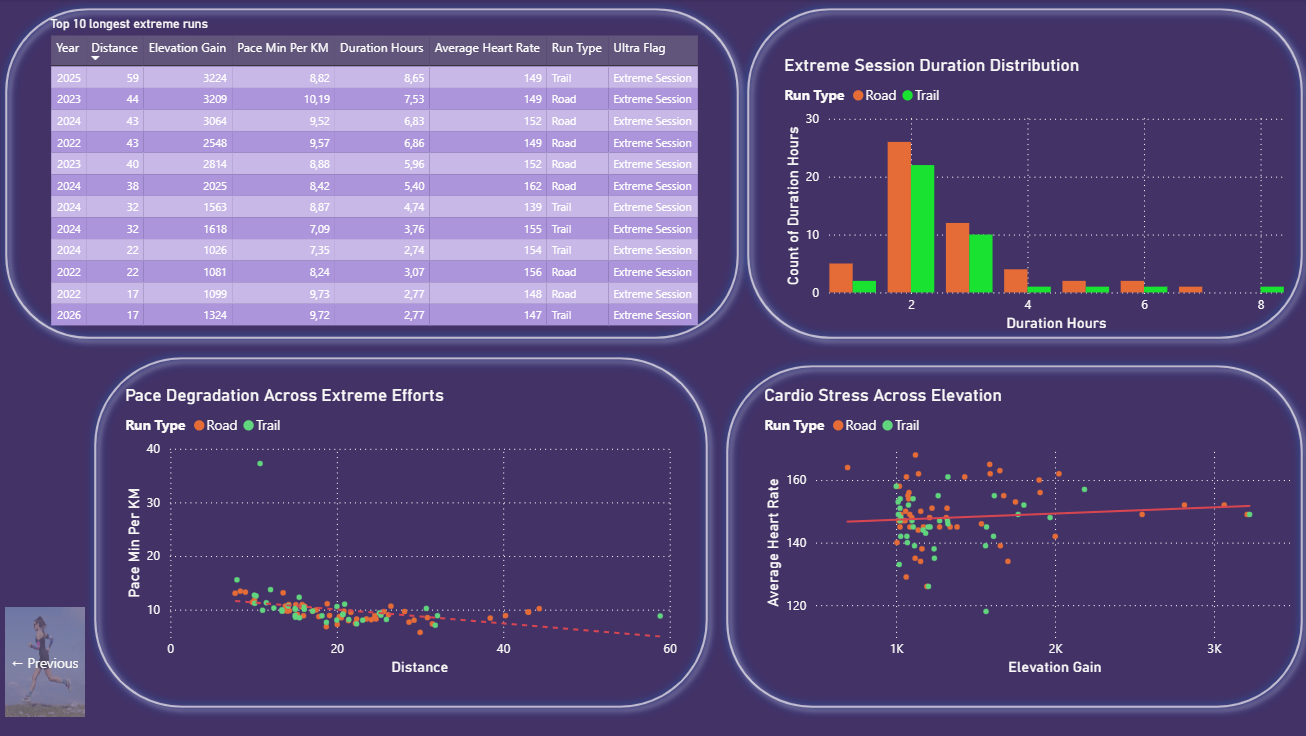

Layout of this report page (visuals, bound fields, positions):
{"tool":"powerbi","page":{"name":"Ultra / Extreme Trail Analysis","canvas":[1280,720],"ordinal":2},"visuals":[{"type":"shape","box":[0,0,731.4,339.5],"z":0},{"type":"shape","box":[701.3,347.2,578.7,351.1],"z":1000},{"type":"shape","box":[86.6,339.5,614.7,358.9],"z":2000},{"type":"shape","box":[721.7,0,558.3,339.5],"z":3000},{"type":"tableEx","title":"Top 10 longest extreme runs","fields":{"Values":["runs.Year","runs.Distance","runs.Elevation Gain","runs.Pace Min Per KM","runs.Duration Hours","runs.Average Heart Rate","runs.Run Type","runs.Ultra Flag"]},"box":[47.7,17.5,654.6,305.4],"z":4000},{"type":"clusteredColumnChart","title":"Extreme Session Duration Distribution","fields":{"Category":["runs.Duration Hours (bins)"],"Y":["CountNonNull(runs.Duration Hours)"],"Series":["runs.Run Type"]},"box":[761.6,54.5,496,274.3],"z":5000},{"type":"scatterChart","title":"Pace Degradation Across Extreme Efforts","fields":{"X":["runs.Distance"],"Y":["runs.Pace Min Per KM"],"Series":["runs.Run Type"]},"box":[120.6,375.4,546.6,287.9],"z":6000},{"type":"scatterChart","title":"Cardio Stress Across Elevation","fields":{"X":["runs.Elevation Gain"],"Series":["runs.Run Type"],"Y":["runs.Average Heart Rate"]},"box":[742.1,375.4,537.9,287.9],"z":7000},{"type":"actionButton","box":[8.8,591.4,77.8,107],"z":8000}]}

Visuals, with their boxes in screenshot pixels (x1, y1, x2, y2), scaled from the page's 1280x720 canvas onto the 1306x736 screenshot:
shape: (0,0,746,347)
shape: (716,355,1305,714)
shape: (88,347,716,714)
shape: (736,0,1305,347)
"Top 10 longest extreme runs" tableEx: (49,18,717,330)
"Extreme Session Duration Distribution" clusteredColumnChart: (777,56,1283,336)
"Pace Degradation Across Extreme Efforts" scatterChart: (123,384,681,678)
"Cardio Stress Across Elevation" scatterChart: (757,384,1305,678)
actionButton: (9,605,88,714)
